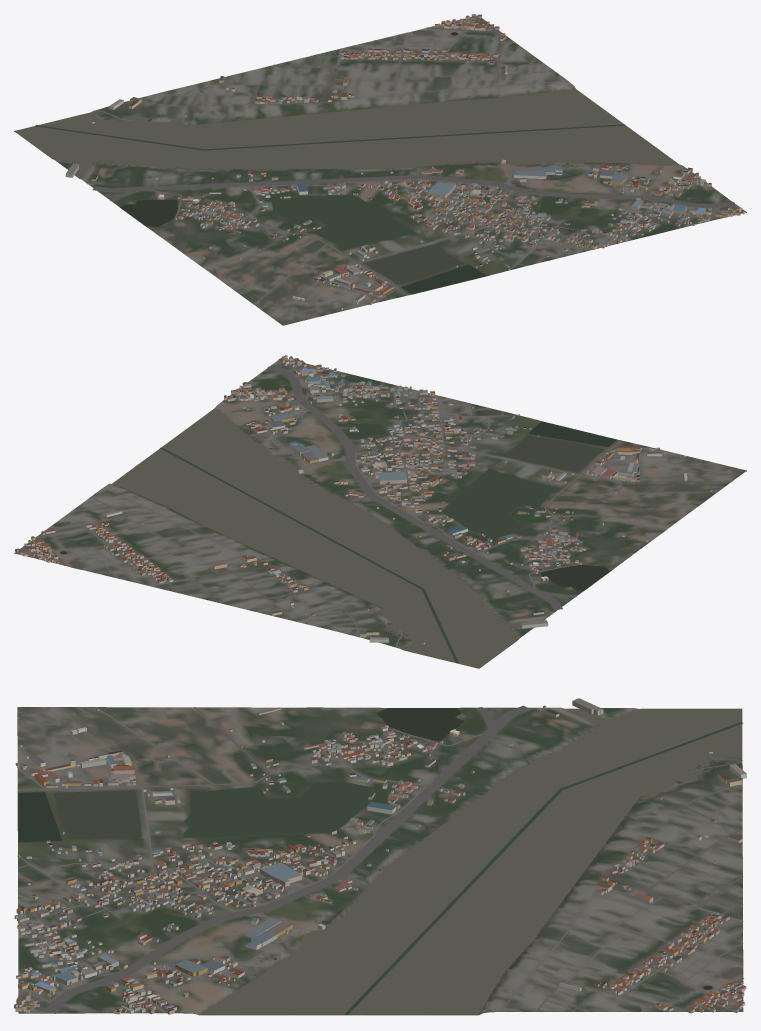
The picture shows the model from 3 angles, top to bottom: view 1: azimuth 30°, elevation 25°; view 2: azimuth 150°, elevation 25°; view 3: azimuth 270°, elevation 25°; orthographic projection. The views are drawn at different scales.
Visible parts, largest first — view 1: ground, water, buildings, roads; view 2: ground, water, buildings, roads; view 3: ground, water, buildings, roads.
Boxes of the visible parts, bbox=[...] form: ground: bbox=[14, 15, 746, 325]; water: bbox=[15, 29, 678, 294]; buildings: bbox=[65, 14, 744, 309]; roads: bbox=[92, 19, 736, 304]; ground: bbox=[14, 357, 746, 668]; water: bbox=[60, 408, 616, 668]; buildings: bbox=[15, 355, 712, 644]; roads: bbox=[21, 364, 717, 648]; ground: bbox=[17, 707, 743, 1015]; water: bbox=[18, 708, 743, 1015]; buildings: bbox=[14, 698, 746, 1014]; roads: bbox=[17, 705, 743, 1013].
Size of the model in its own units: 1435 by 21.56 by 1417.
